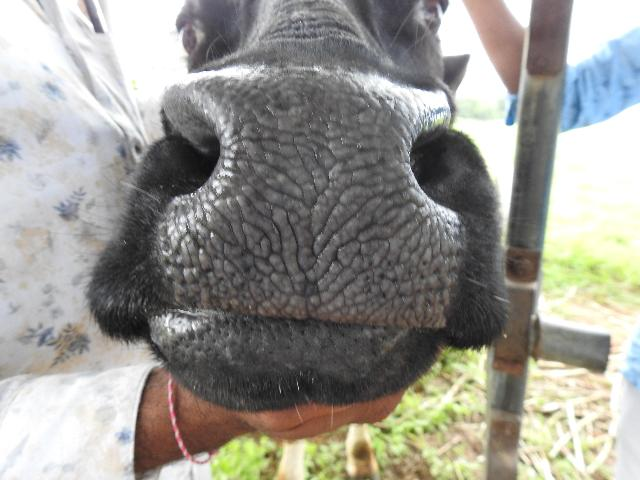Muzzle: (212, 80, 428, 310)
